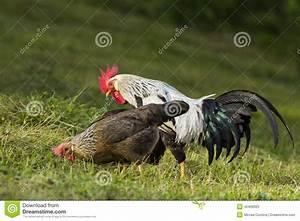hen: (96, 63, 294, 166), (51, 99, 189, 176)
